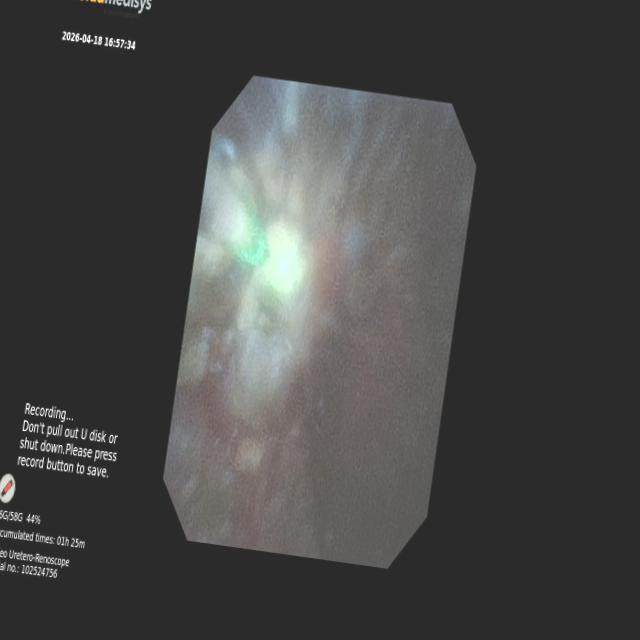laser-fibre: (197, 144, 268, 262)
laser_dot: (270, 239, 302, 292)
stone-new: (231, 222, 311, 422), (193, 171, 260, 276)
